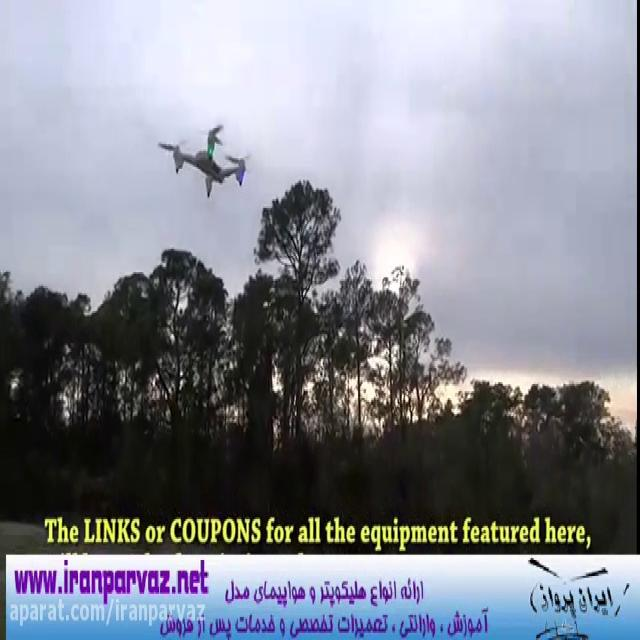drone: (155, 115, 254, 201)
